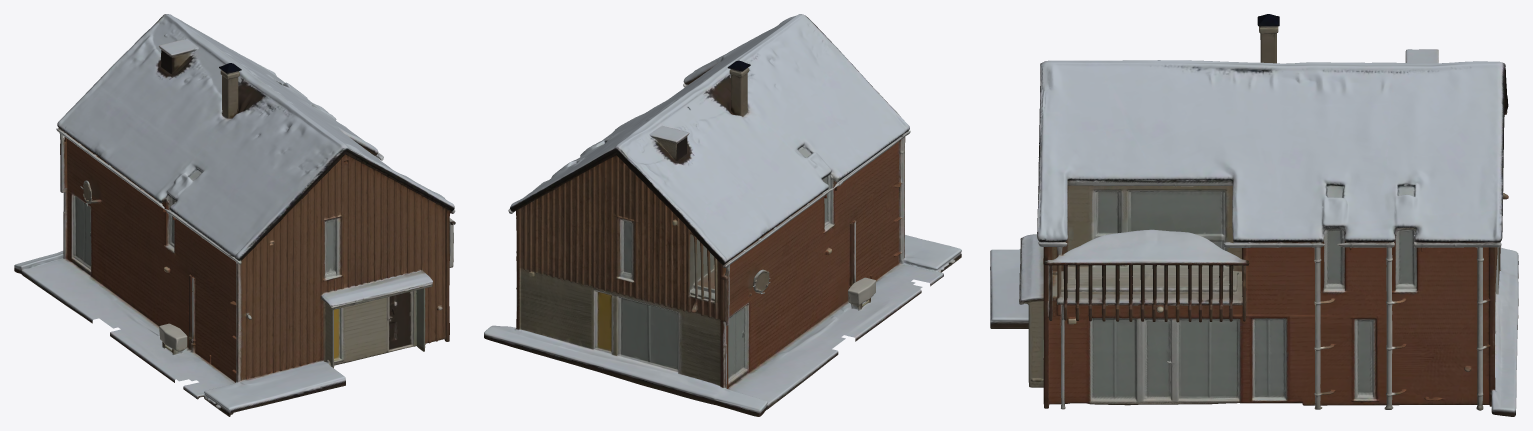
File: building.glb
3 renders of one model, left to right at view 1: azimuth 30°, elevation 25°; view 2: azimuth 150°, elevation 25°; view 3: azimuth 270°, elevation 25°, orthographic. The views are drawn at different scales.
Parts seen in each view (by area): view 1: tripo_node_a7812259-ba40-4359-a45e-7f6c4bccddb2; view 2: tripo_node_a7812259-ba40-4359-a45e-7f6c4bccddb2; view 3: tripo_node_a7812259-ba40-4359-a45e-7f6c4bccddb2.
Part boxes in pixels (x1,y1,x2,y2): tripo_node_a7812259-ba40-4359-a45e-7f6c4bccddb2: (14, 14, 455, 416); tripo_node_a7812259-ba40-4359-a45e-7f6c4bccddb2: (484, 14, 961, 416); tripo_node_a7812259-ba40-4359-a45e-7f6c4bccddb2: (990, 14, 1518, 416).
Size of the model in its own units: 0.7628 by 0.6669 by 0.9999.
1 material, 1 textured.
